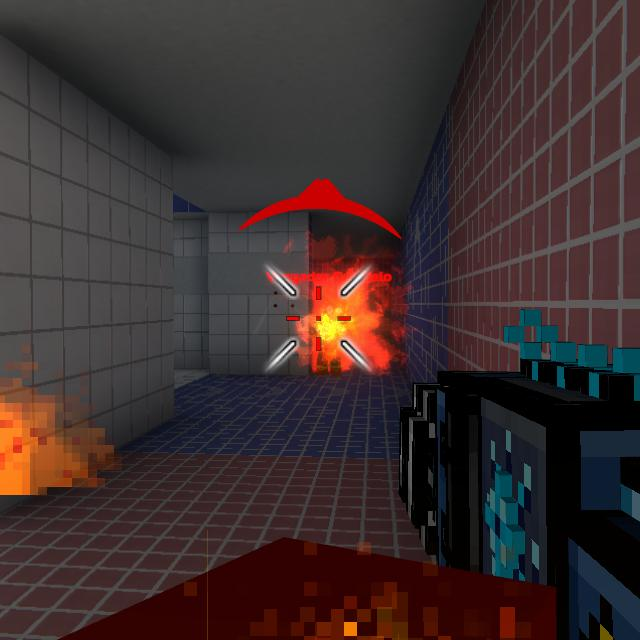Enemy: (305, 297, 350, 374)
